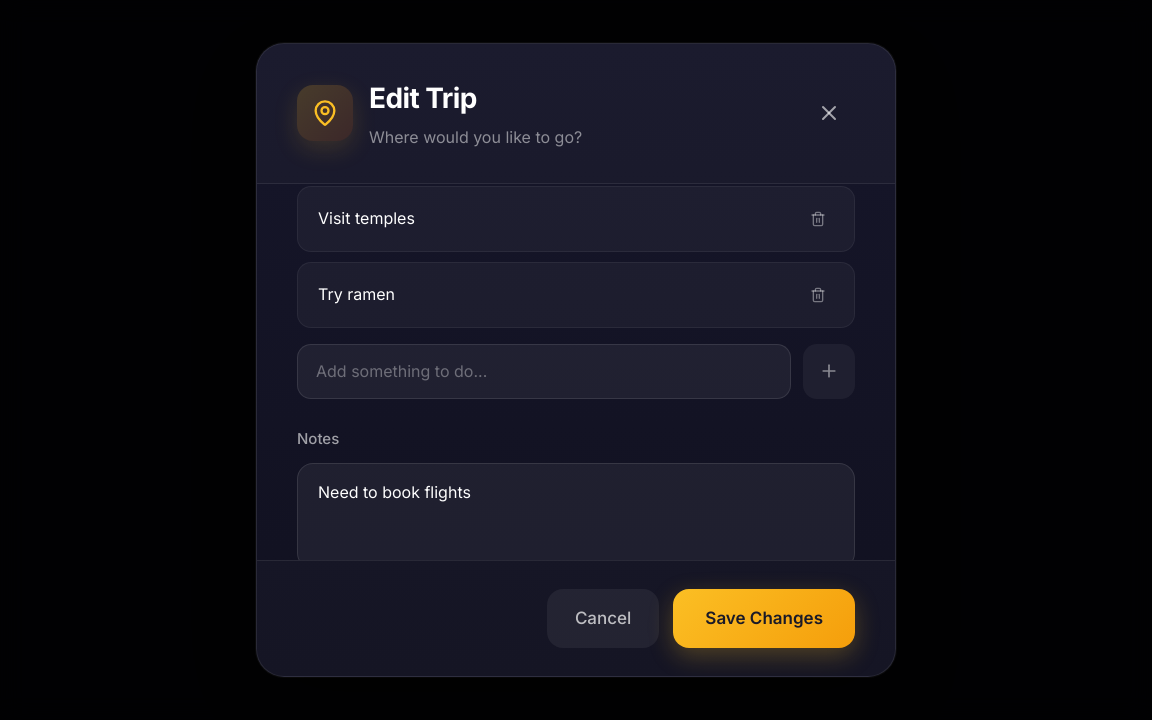
PlannedTripModal component › should handle adding todo via Enter key
The image size is (1152, 720).
(page scrolled)
In the field with placeholder "Add something to do...": (544, 371) [297,344,791,399], type "New todo item"
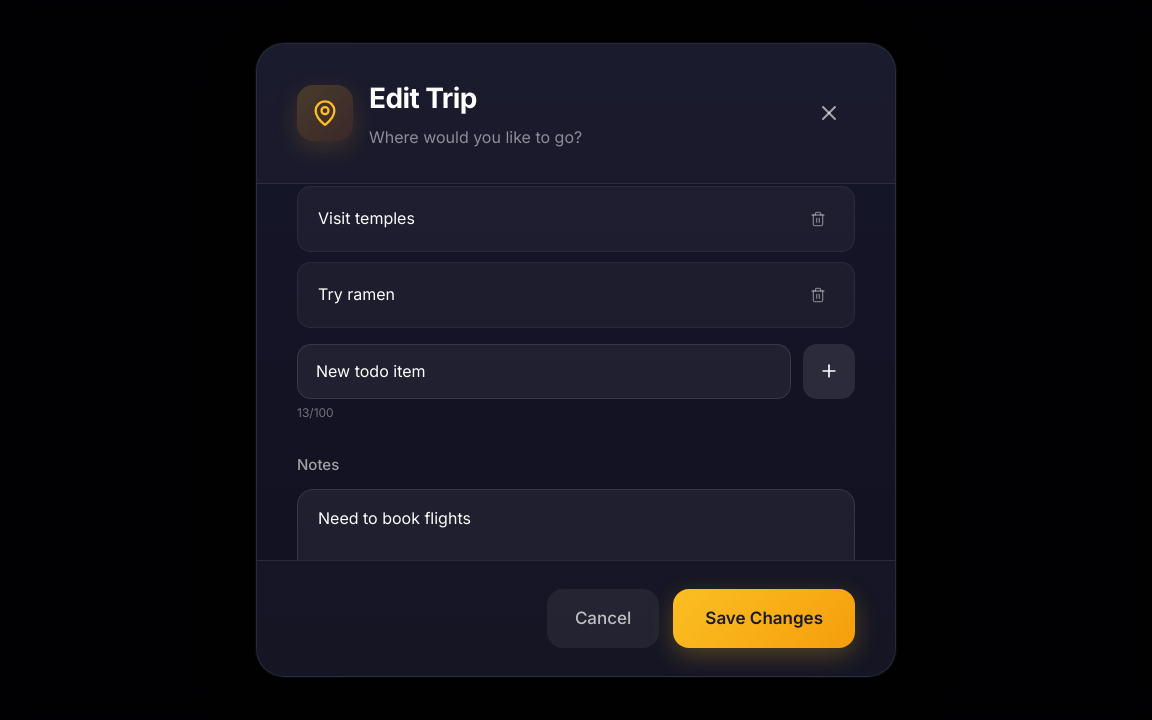
Press Enter in the field with placeholder "Add something to do...", box [297,344,791,399]
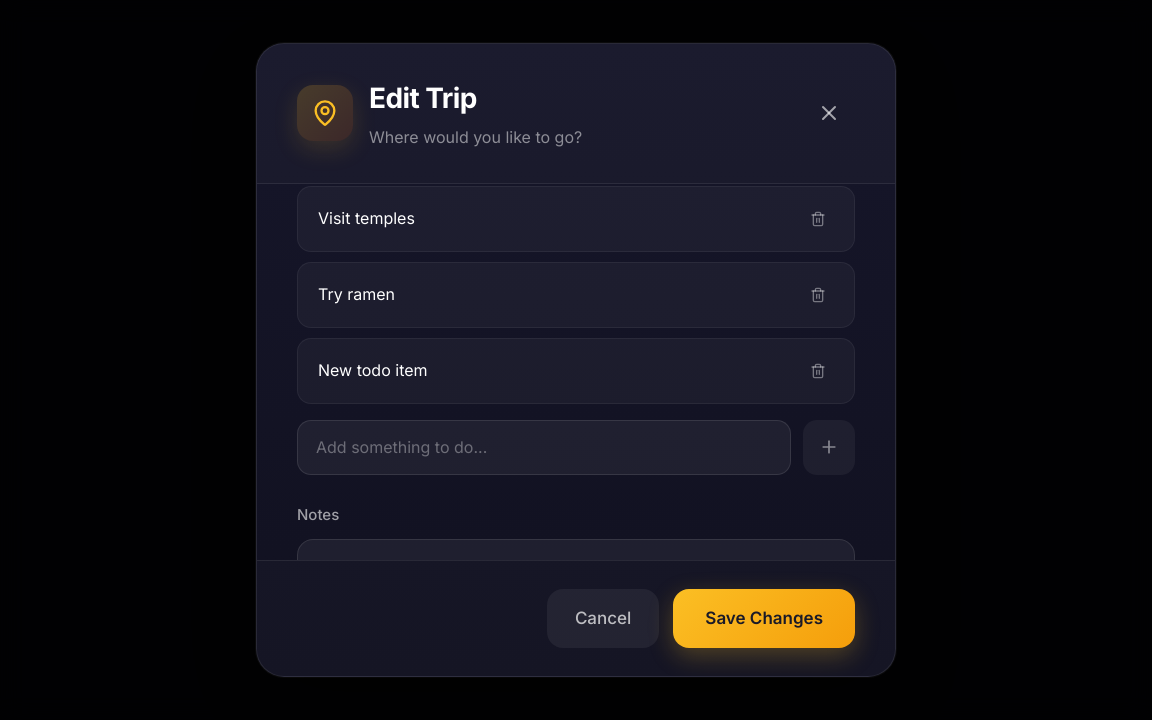
Now the text "New todo item" is shown, box [318,360,428,380]
